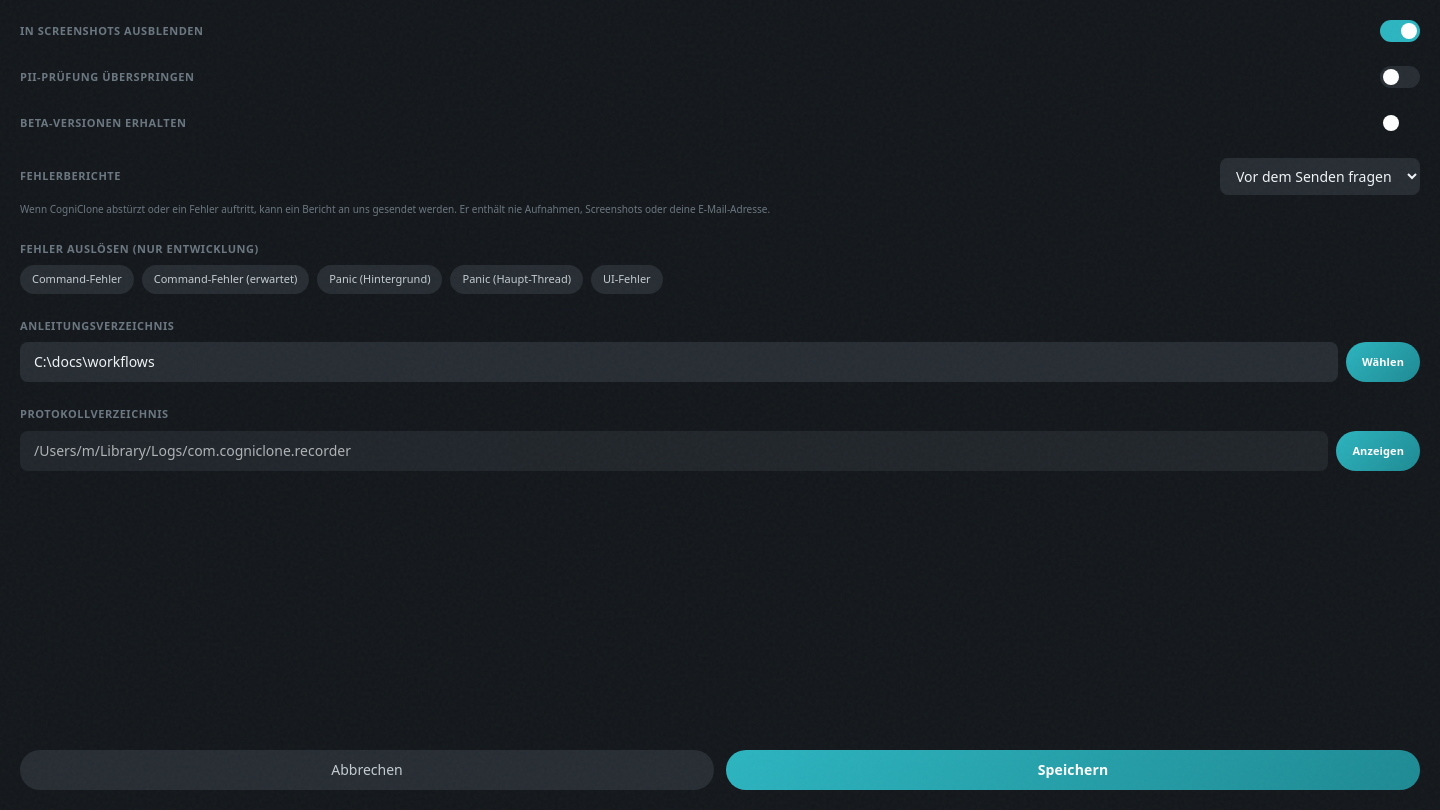
Test: SettingsPage save failure › keeps the window open and says what went wrong
The width and height of the screenshot is (1440, 810).
Click the button "Speichern": (1073, 770) [726, 750, 1420, 790]
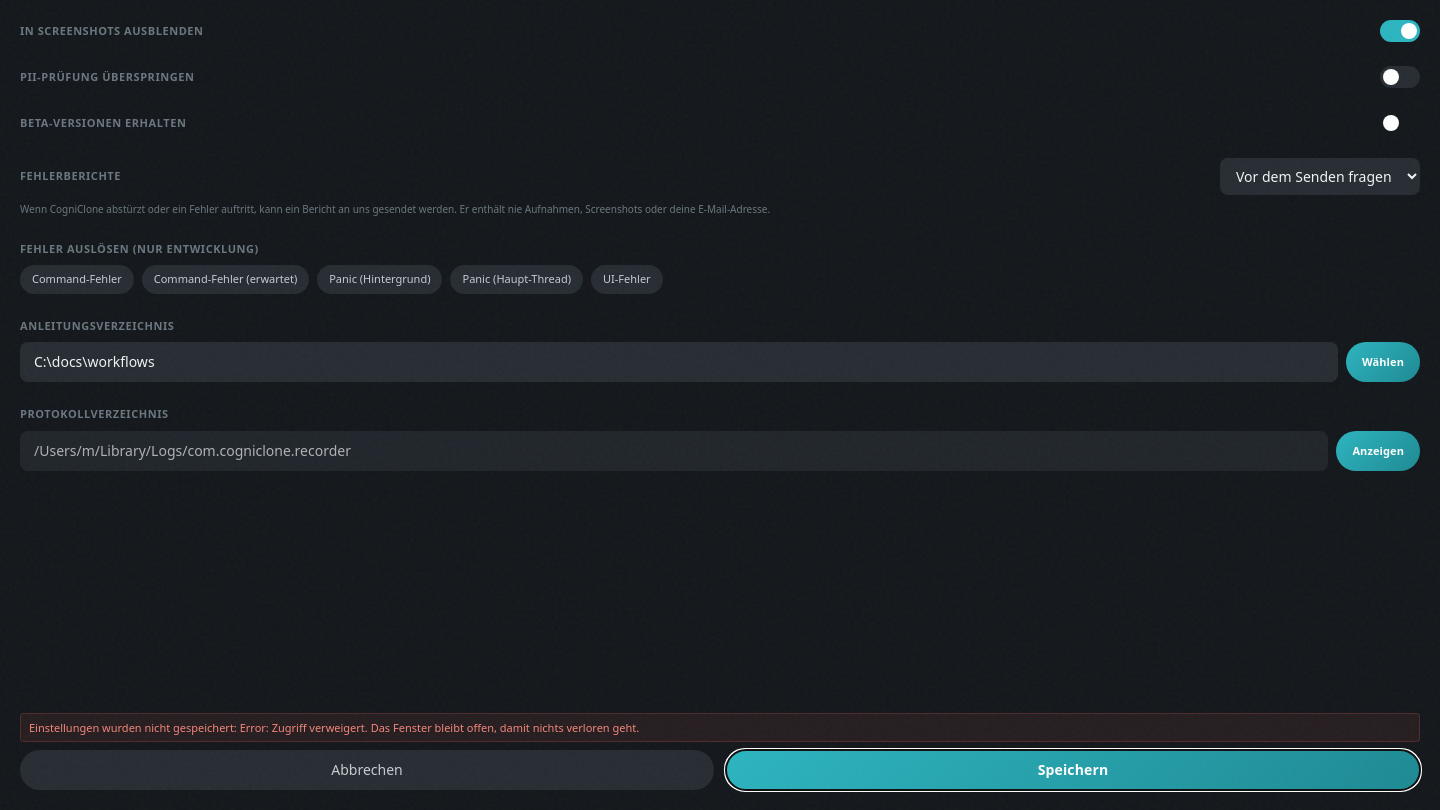
Expected: the message shows "nicht gespeichert", [29, 720, 639, 735]
Expected: the message shows "Zugriff verweigert", [29, 720, 639, 735]
